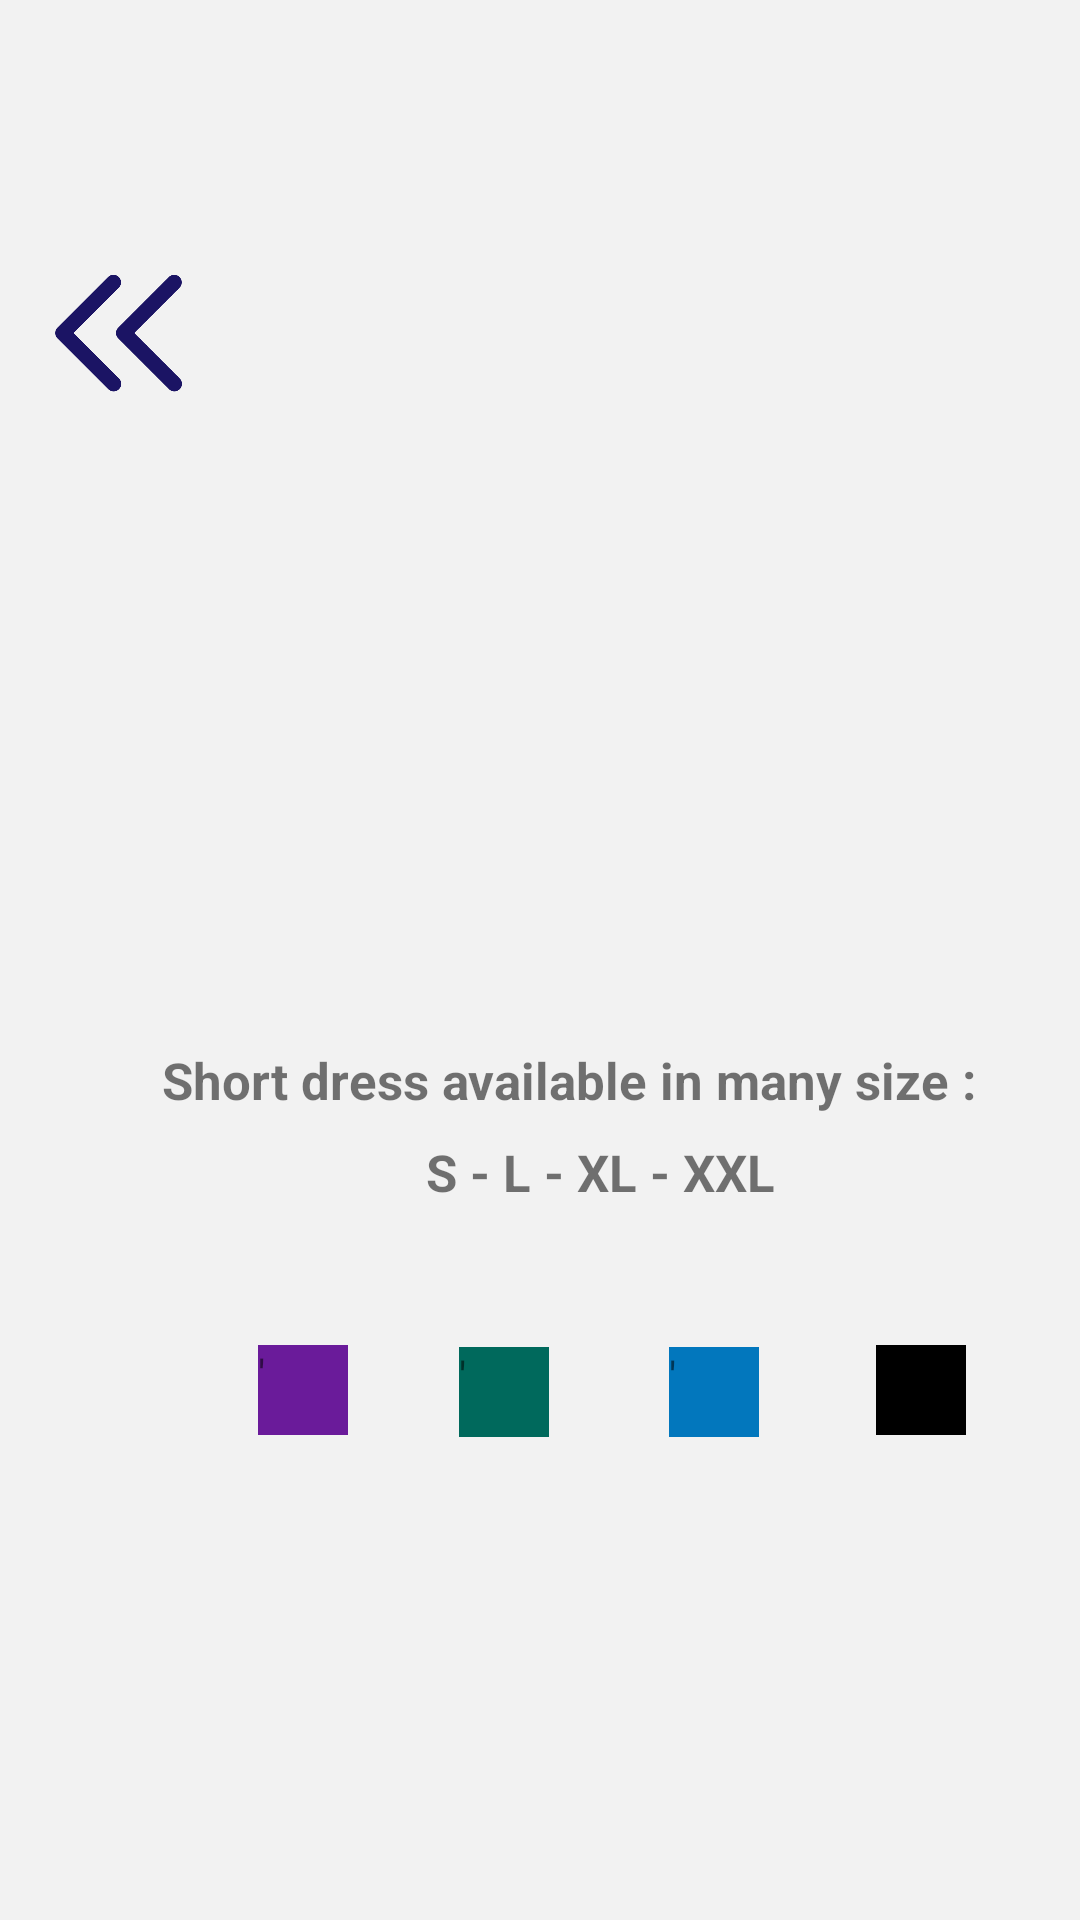

Screen size 1080px×1920px. Icon name, then its center in pixels as (x,y):
back: (118,333)
